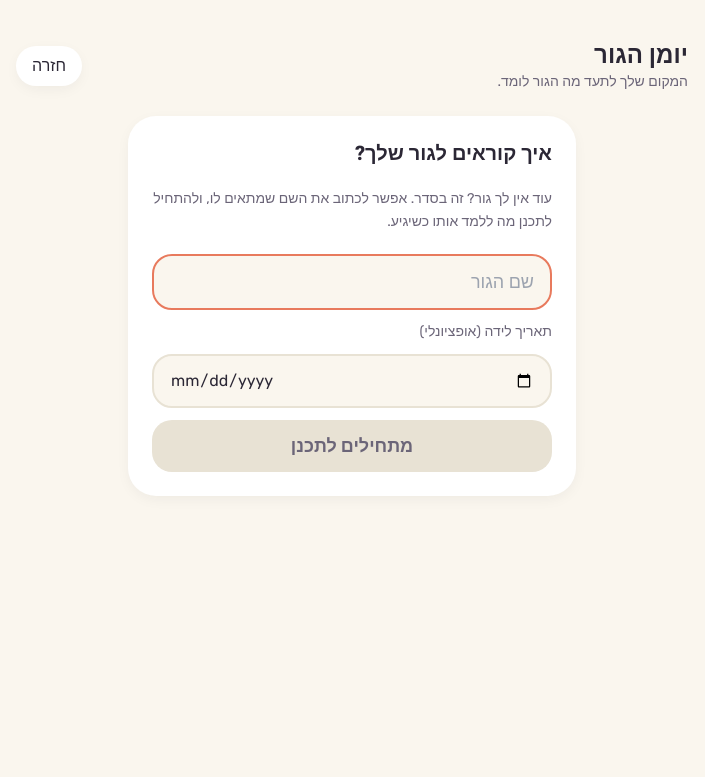
Test: <PuppyJournalPage> — free notes › adds and renders a free note
This screenshot has width=705, height=777.
Type "באדי" into the field with placeholder "שם הגור" at coordinates (352, 282), box left=152, top=254, right=552, bottom=310
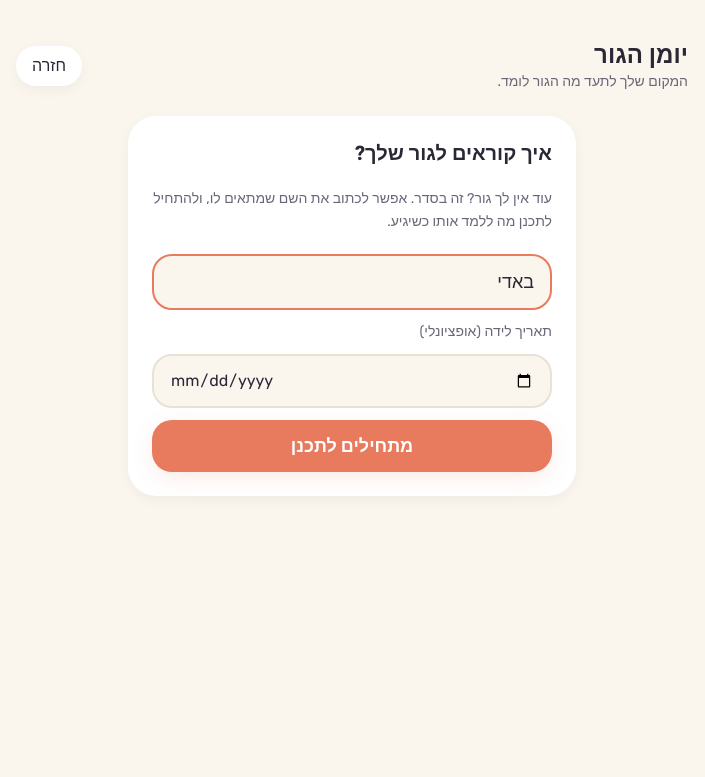
Click the button "מתחילים לתכנן" at coordinates (352, 446), box left=152, top=420, right=552, bottom=472
(page scrolled)
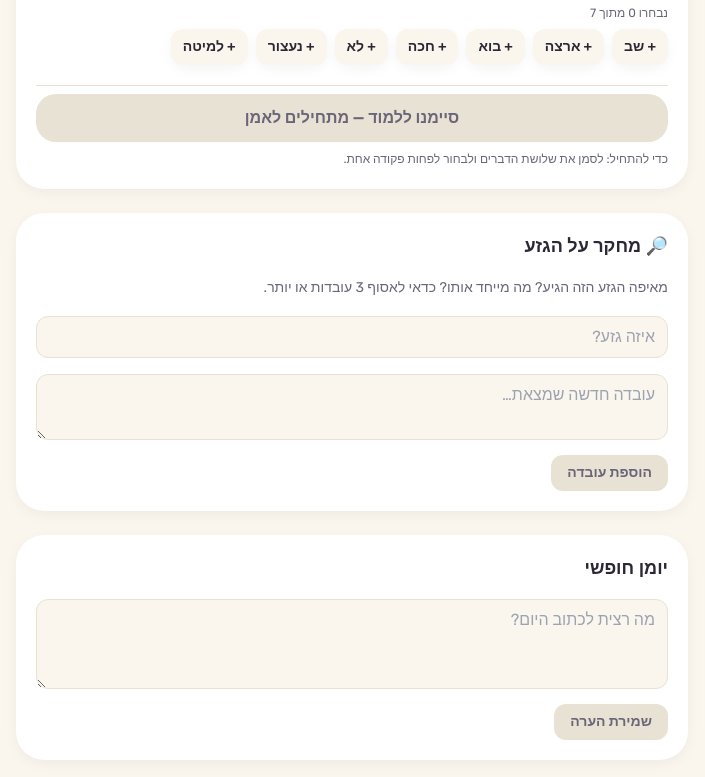
Type "באדי היה ממוקד היום" into the text box with placeholder "מה רצית לכתוב היום?" at coordinates (352, 644), box left=36, top=599, right=668, bottom=689
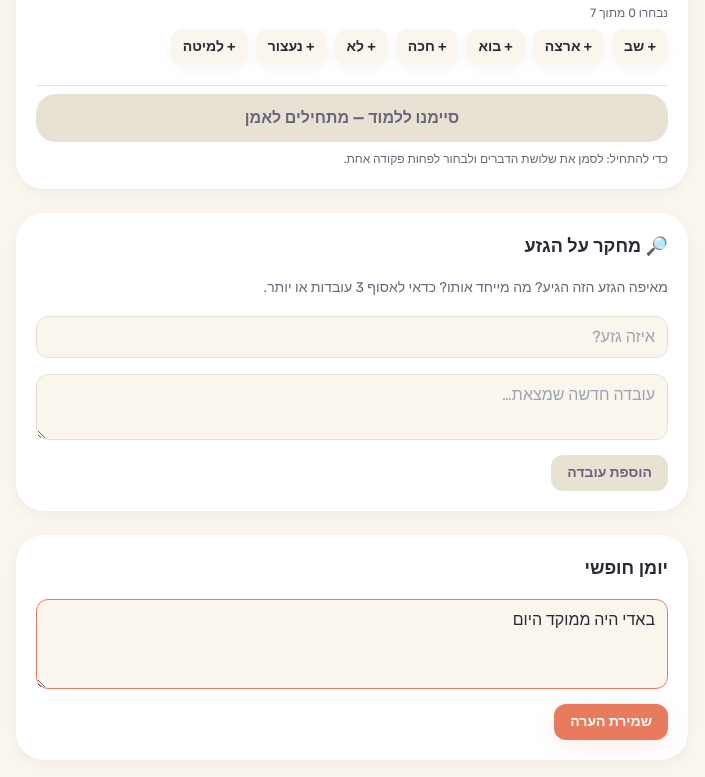
Click the button "שמירת הערה" at coordinates (611, 722), box left=554, top=704, right=668, bottom=740
(page scrolled)
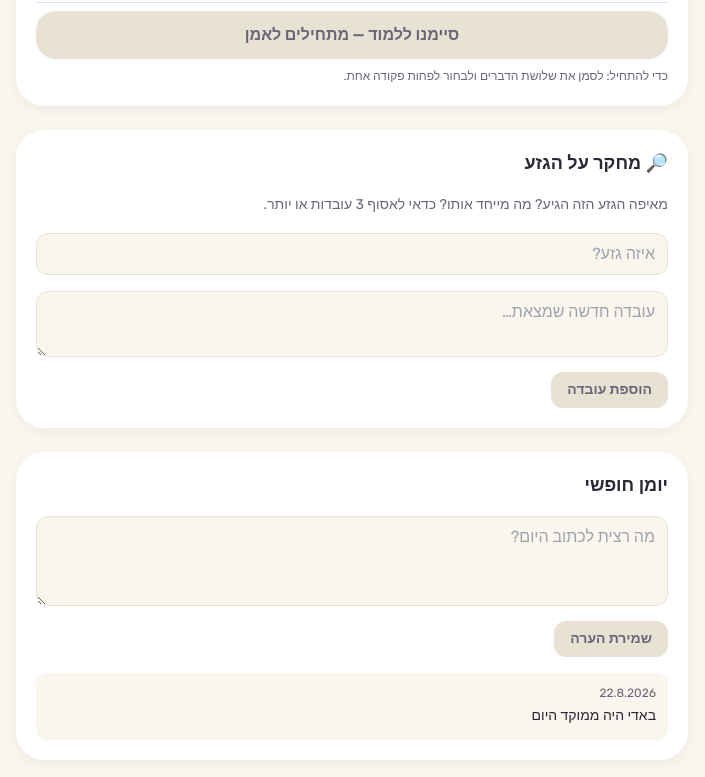
Expected: the list item "באדי היה ממוקד היום" is shown, left=532, top=707, right=656, bottom=724
